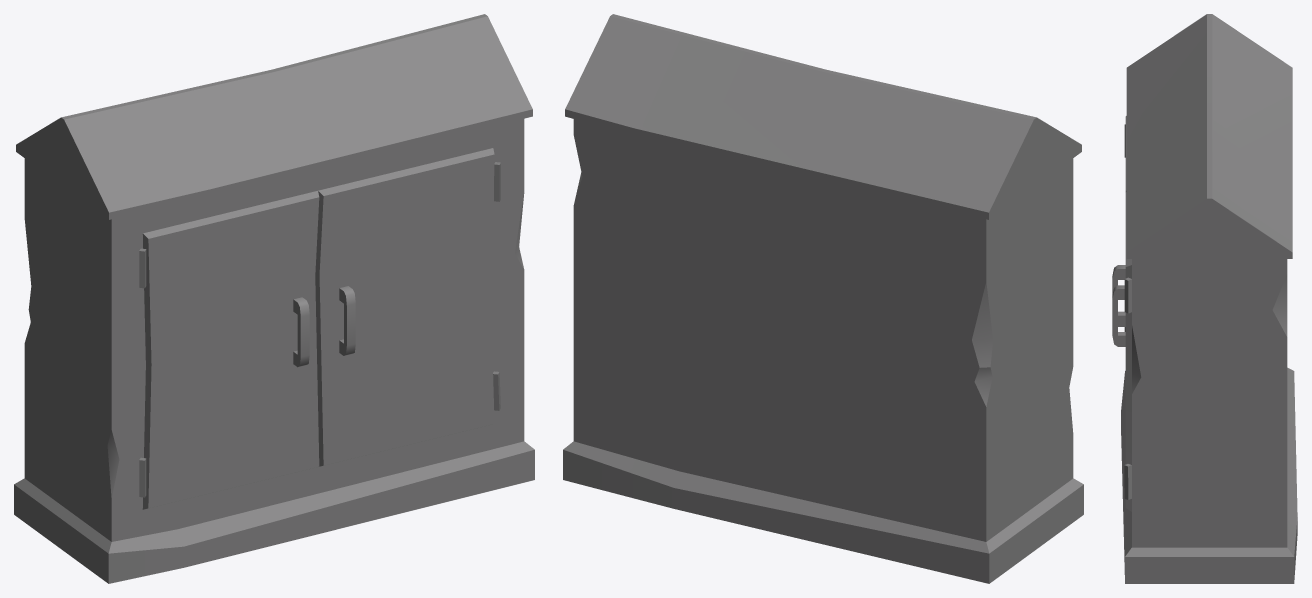
The model's file is SM_Prop_PowerBox_01.obj.
3 renders of one model, left to right at view 1: azimuth 30°, elevation 25°; view 2: azimuth 150°, elevation 25°; view 3: azimuth 270°, elevation 25°, orthographic. The views are drawn at different scales.
Parts seen in each view (by area): view 1: SM_Prop_PowerBox_01_Mat_PolygonCity_Texture_01_A; view 2: SM_Prop_PowerBox_01_Mat_PolygonCity_Texture_01_A; view 3: SM_Prop_PowerBox_01_Mat_PolygonCity_Texture_01_A.
Part boxes in pixels (bbox=[...]): SM_Prop_PowerBox_01_Mat_PolygonCity_Texture_01_A: bbox=[14, 14, 534, 583]; SM_Prop_PowerBox_01_Mat_PolygonCity_Texture_01_A: bbox=[563, 14, 1083, 583]; SM_Prop_PowerBox_01_Mat_PolygonCity_Texture_01_A: bbox=[1112, 14, 1297, 583].
Bounding box in the file's own units: 1.97 × 1.9 × 0.8304.
Materials: 1 (1 with a texture image).
